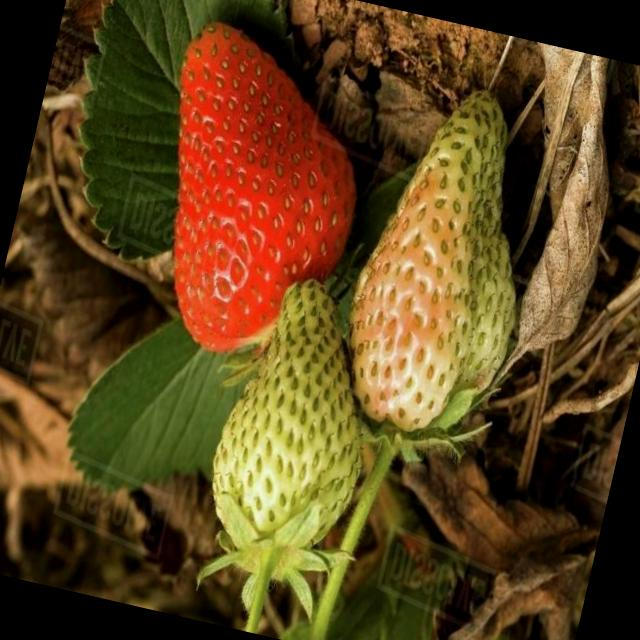Strawberry: (122, 17, 388, 380), (324, 76, 563, 464), (192, 273, 398, 592), (331, 156, 505, 442)
